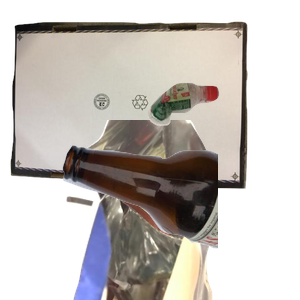cardboard: (10, 19, 250, 199)
glass: (60, 142, 300, 300)
plastic: (146, 80, 300, 198)
trash: (63, 120, 300, 300)
